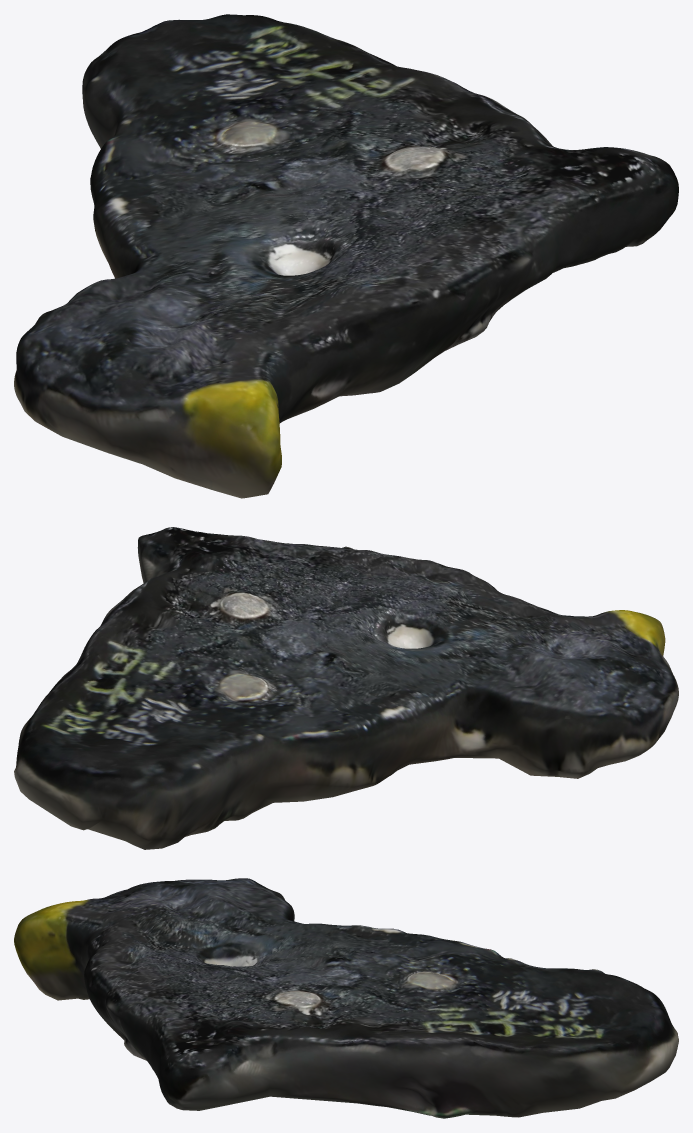
3 renders of one model, top to bottom at view 1: azimuth 30°, elevation 25°; view 2: azimuth 150°, elevation 25°; view 3: azimuth 270°, elevation 25°, orthographic. The views are drawn at different scales.
Size of the model in its own units: 0.6039 by 0.1497 by 0.6863.
1 material, 1 textured.
